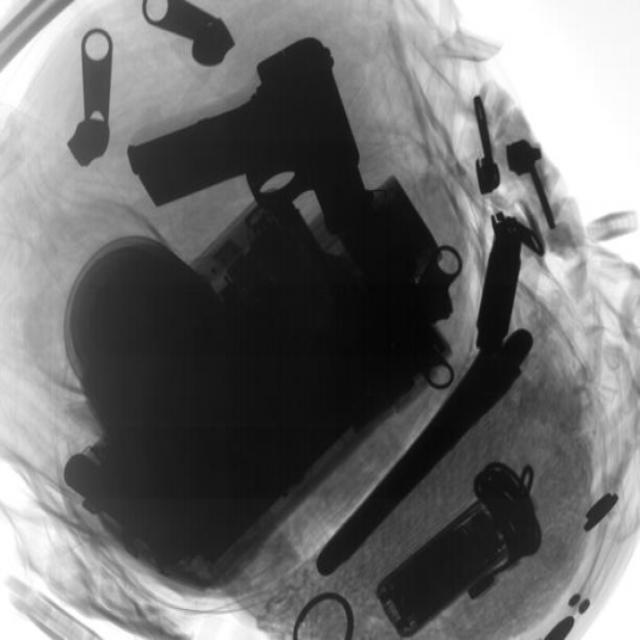GUN: (132, 40, 395, 263)
